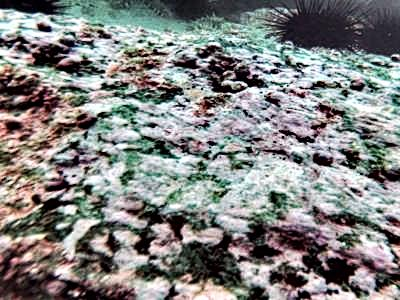urchin: (262, 2, 352, 51), (357, 10, 398, 58)
